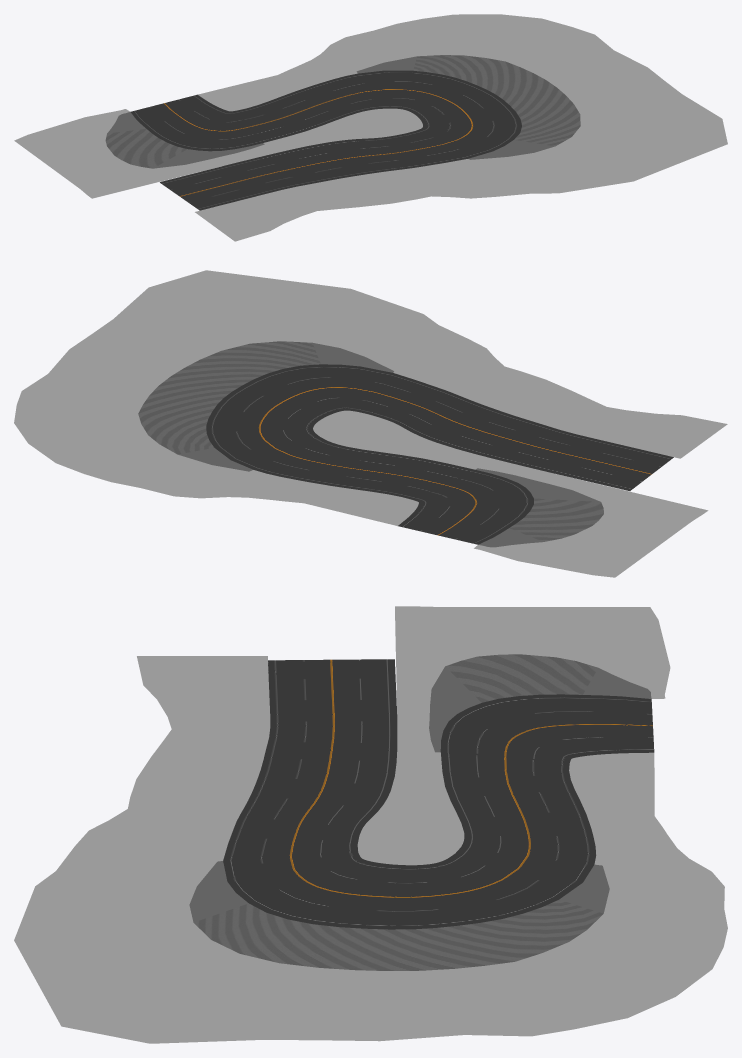
File: road_combo_turn.fbx
The picture shows the model from 3 angles, top to bottom: view 1: azimuth 30°, elevation 25°; view 2: azimuth 150°, elevation 25°; view 3: azimuth 270°, elevation 25°; orthographic projection. The views are drawn at different scales.
Parts seen in each view (by area): view 1: polySurface26, polySurface21, polySurface12, polySurface14; view 2: polySurface26, polySurface21, polySurface12, polySurface14; view 3: polySurface26, polySurface21, polySurface12, polySurface14.
Boxes of the visible parts, box(x1,y1,x2,y2) form: polySurface26: box(14, 14, 727, 241); polySurface21: box(130, 70, 521, 210); polySurface12: box(356, 55, 580, 159); polySurface14: box(105, 112, 264, 168); polySurface26: box(14, 270, 727, 577); polySurface21: box(206, 364, 673, 544); polySurface12: box(138, 341, 393, 471); polySurface14: box(475, 468, 603, 547); polySurface26: box(14, 606, 727, 1043); polySurface21: box(223, 659, 654, 929); polySurface12: box(189, 861, 609, 970); polySurface14: box(429, 654, 651, 752).
Size of the model in its own units: 16040 by 0.000244 by 11059.
